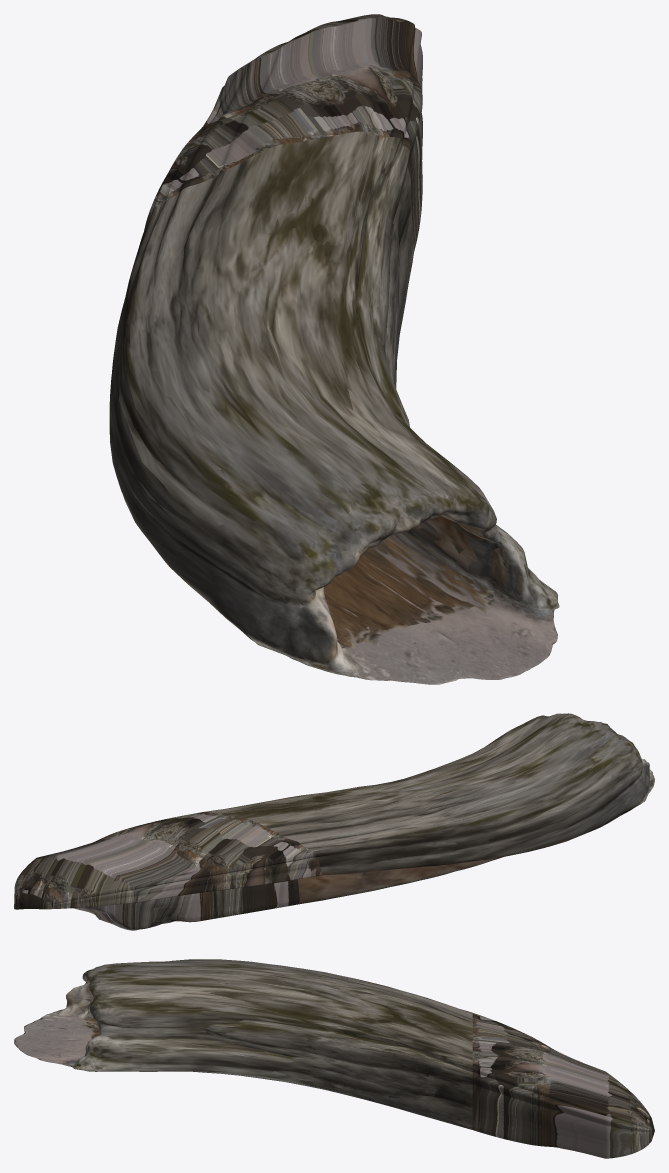
Rendered from model-r28-deep.glb.
The picture shows the model from 3 angles, top to bottom: view 1: azimuth 30°, elevation 25°; view 2: azimuth 150°, elevation 25°; view 3: azimuth 270°, elevation 25°; orthographic projection. The views are drawn at different scales.
Parts seen in each view (by area): view 1: Continuous cave shell; view 2: Continuous cave shell; view 3: Continuous cave shell.
Part boxes in pixels (x1,y1,x2,y2): Continuous cave shell: [109, 14, 559, 684]; Continuous cave shell: [14, 713, 654, 930]; Continuous cave shell: [14, 959, 654, 1158].
Bounding box in the file's own units: 41.33 × 9.1 × 68.71.
Materials: 1 (1 with a texture image).
